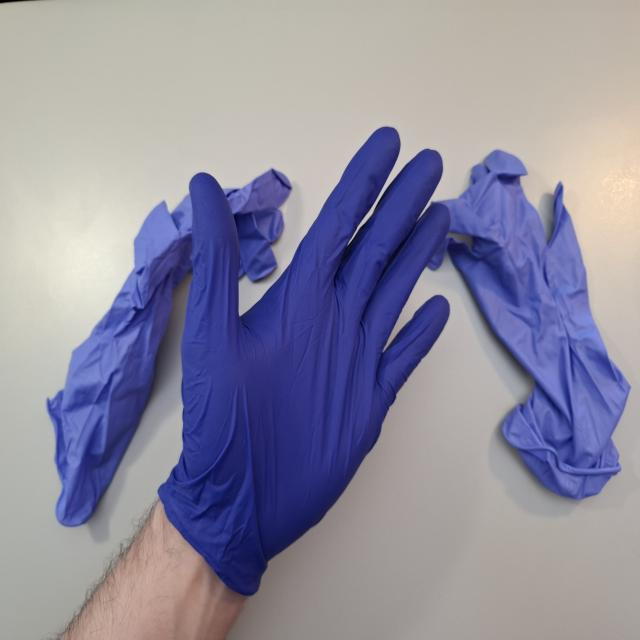glove_on: (157, 122, 453, 600)
